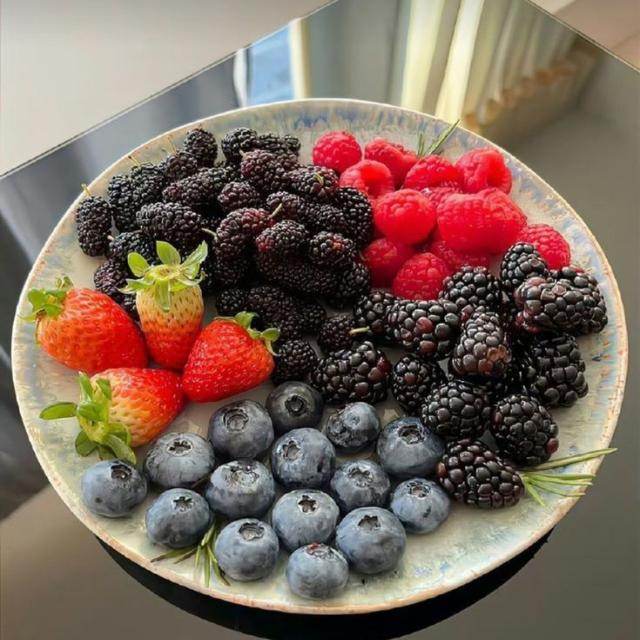blueberry: (336, 509, 406, 573), (376, 416, 444, 479), (205, 459, 274, 520), (272, 490, 339, 551), (143, 432, 214, 489), (214, 519, 278, 581), (146, 488, 212, 548), (271, 428, 335, 489), (208, 400, 273, 458), (82, 460, 146, 516), (286, 543, 348, 597), (390, 478, 449, 534), (331, 460, 390, 515), (266, 383, 323, 434), (327, 402, 381, 453)
raspberry: (437, 438, 612, 508), (438, 188, 526, 253), (311, 341, 392, 404), (490, 392, 557, 465), (524, 334, 587, 406), (387, 299, 461, 359), (449, 311, 511, 378), (421, 380, 488, 440), (515, 277, 586, 332), (551, 266, 607, 332), (137, 202, 203, 254), (390, 354, 446, 415), (374, 189, 435, 243), (441, 266, 501, 316), (214, 208, 266, 262), (361, 238, 416, 287), (391, 254, 450, 299), (501, 241, 548, 297), (364, 138, 417, 187), (516, 224, 571, 269), (456, 148, 511, 193), (334, 188, 374, 248), (339, 160, 394, 203), (240, 150, 295, 193), (75, 196, 114, 256), (354, 290, 396, 343), (163, 170, 215, 212), (312, 131, 362, 172), (272, 339, 317, 384), (256, 220, 308, 258), (318, 314, 367, 354), (429, 239, 490, 271), (404, 156, 461, 190), (329, 262, 370, 308), (287, 166, 337, 202), (129, 163, 165, 212), (107, 231, 156, 265), (108, 175, 137, 231), (309, 232, 355, 266), (94, 260, 126, 303), (218, 182, 260, 213), (266, 191, 308, 222), (221, 128, 257, 164), (183, 128, 217, 166), (159, 150, 198, 182), (306, 205, 348, 234), (421, 187, 462, 214), (256, 132, 300, 155)
strawberry: (39, 368, 185, 464), (24, 278, 147, 373), (121, 241, 206, 370), (182, 311, 279, 401)
